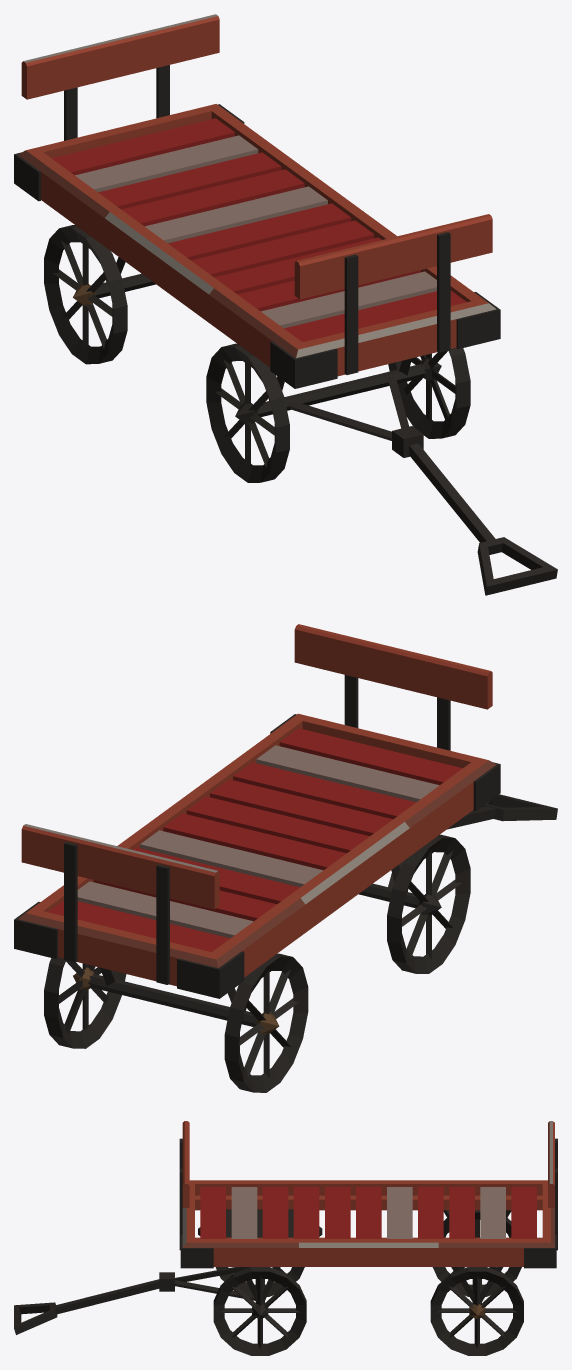
Rendered from cart.glb.
3 renders of one model, top to bottom at view 1: azimuth 30°, elevation 25°; view 2: azimuth 150°, elevation 25°; view 3: azimuth 270°, elevation 25°, orthographic. The views are drawn at different scales.
Visible parts, largest first — view 1: trolley-body, wheel-rr-mesh, wheel-fr-mesh, front-gear, drawbar-mesh, wheel-fl-mesh; view 2: trolley-body, wheel-rr-mesh, wheel-fr-mesh, wheel-rl-mesh, drawbar-mesh, front-gear; view 3: trolley-body, wheel-fl-mesh, wheel-rl-mesh, front-gear, drawbar-mesh, wheel-rr-mesh, wheel-fr-mesh.
Part boxes in pixels (left/top/right/bottom): trolley-body: left=14, top=14, right=500, bottom=388; wheel-rr-mesh: left=44, top=225, right=127, bottom=364; wheel-fr-mesh: left=206, top=343, right=289, bottom=482; front-gear: left=257, top=358, right=426, bottom=457; drawbar-mesh: left=409, top=443, right=557, bottom=595; wheel-fl-mesh: left=388, top=347, right=470, bottom=438; trolley-body: left=14, top=624, right=500, bottom=1026; wheel-rr-mesh: left=224, top=953, right=308, bottom=1092; wheel-fr-mesh: left=387, top=834, right=470, bottom=973; wheel-rl-mesh: left=44, top=957, right=126, bottom=1048; drawbar-mesh: left=447, top=794, right=557, bottom=829; front-gear: left=358, top=861, right=419, bottom=908; trolley-body: left=179, top=1121, right=557, bottom=1304; wheel-fl-mesh: left=213, top=1267, right=306, bottom=1355; wheel-rl-mesh: left=430, top=1267, right=523, bottom=1355; front-gear: left=159, top=1209, right=322, bottom=1304; drawbar-mesh: left=14, top=1279, right=159, bottom=1334; wheel-rr-mesh: left=432, top=1210, right=521, bottom=1296; wheel-fr-mesh: left=215, top=1267, right=304, bottom=1296.
Size of the model in its own units: 1.03 by 1.22 by 3.51.
